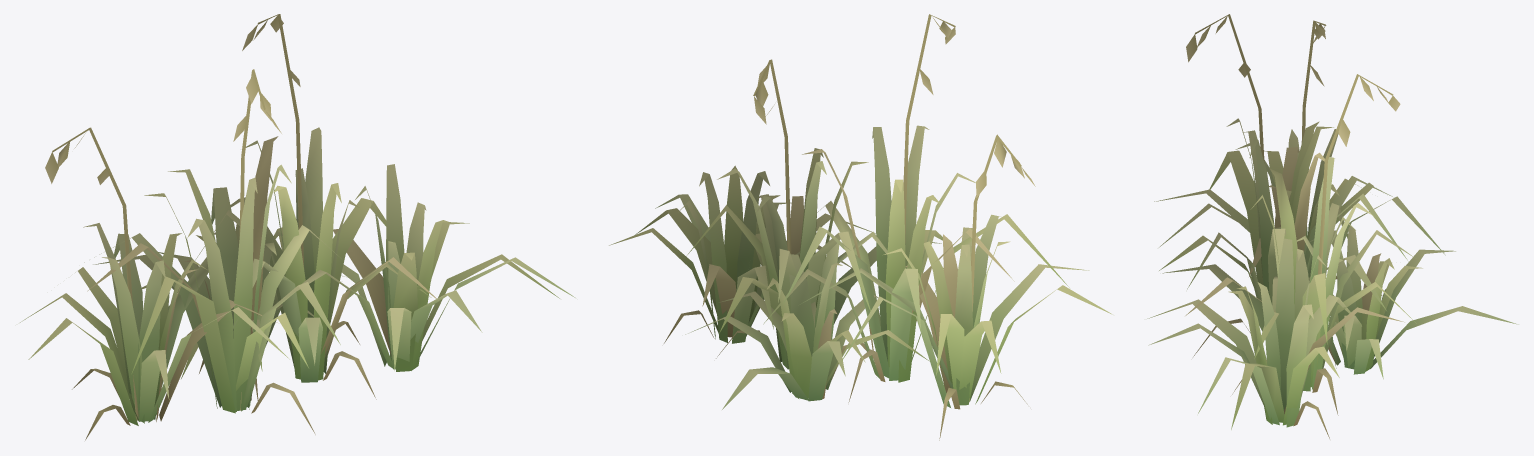
Rendered from deco-beachgrass-v2.glb.
3 views of the same model, side by side, from view 1: azimuth 30°, elevation 25°; view 2: azimuth 150°, elevation 25°; view 3: azimuth 270°, elevation 25° (orthographic). The views are drawn at different scales.
Parts seen in each view (by area): view 1: 0_beachgrass; view 2: 0_beachgrass; view 3: 0_beachgrass.
Boxes of the visible parts, x1=… form: 0_beachgrass: x1=20, y1=14, x2=575, y2=440; 0_beachgrass: x1=609, y1=14, x2=1112, y2=440; 0_beachgrass: x1=1147, y1=14, x2=1518, y2=438.
Size of the model in its own units: 1.72 by 1.14 by 1.19.
